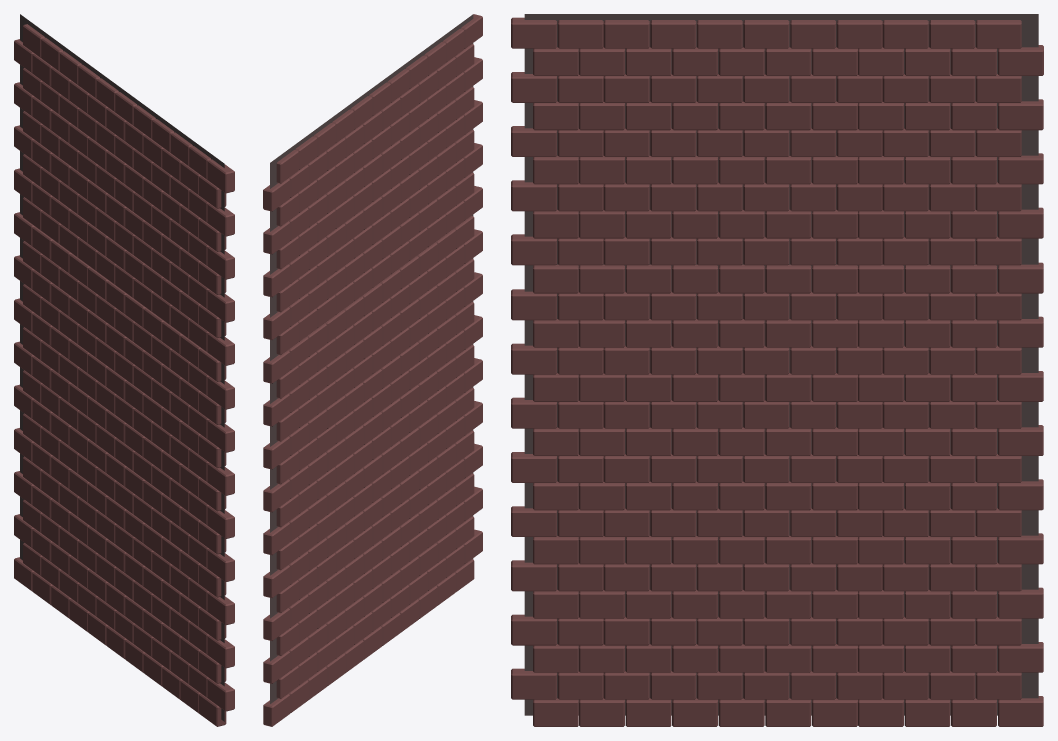
File: Pared_Ladrillos_04.fbx
3 views of the same model, side by side, from view 1: azimuth 30°, elevation 25°; view 2: azimuth 150°, elevation 25°; view 3: azimuth 270°, elevation 25° (orthographic). The views are drawn at different scales.
Visible parts, largest first — view 1: Pared, Losa_0655, Losa_0661, Losa_0564, Losa_0586, Losa_0641, Losa_0672, Losa_0694, Losa_0575, Losa_0608, Losa_0619, Losa_0630 (+275 smaller); view 2: Pared, Losa_0749, Losa_0746, Losa_0757, Losa_0747, Losa_0751, Losa_0752, Losa_0753, Losa_0754, Losa_0755, Losa_0756, Losa_0748 (+275 smaller); view 3: Pared, Losa_0655, Losa_0749, Losa_0642, Losa_0575, Losa_0586, Losa_0630, Losa_0631, Losa_0641, Losa_0683, Losa_0694, Losa_0533 (+275 smaller).
Part boxes in pixels (x1,y1,x2,y2): Pared: [20, 14, 224, 721]; Losa_0655: [207, 159, 234, 193]; Losa_0661: [207, 203, 234, 236]; Losa_0564: [207, 678, 234, 711]; Losa_0586: [207, 592, 234, 625]; Losa_0641: [207, 376, 234, 409]; Losa_0672: [207, 246, 234, 279]; Losa_0694: [207, 332, 234, 365]; Losa_0575: [207, 635, 234, 668]; Losa_0608: [207, 505, 234, 538]; Losa_0619: [207, 462, 234, 495]; Losa_0630: [207, 419, 234, 452]; Pared: [270, 14, 473, 703]; Losa_0749: [263, 350, 289, 383]; Losa_0746: [263, 221, 289, 254]; Losa_0757: [263, 693, 289, 726]; Losa_0747: [263, 264, 289, 297]; Losa_0751: [263, 436, 289, 469]; Losa_0752: [263, 479, 289, 512]; Losa_0753: [263, 522, 289, 555]; Losa_0754: [263, 565, 289, 597]; Losa_0755: [263, 608, 289, 640]; Losa_0756: [263, 651, 289, 683]; Losa_0748: [263, 307, 289, 340]; Pared: [524, 14, 1038, 715]; Losa_0655: [511, 17, 556, 48]; Losa_0749: [998, 262, 1043, 293]; Losa_0642: [765, 264, 811, 293]; Losa_0575: [511, 614, 556, 645]; Losa_0586: [511, 560, 556, 591]; Losa_0630: [511, 343, 556, 374]; Losa_0631: [718, 264, 764, 293]; Losa_0641: [511, 289, 556, 320]; Losa_0683: [511, 180, 556, 211]; Losa_0694: [511, 234, 556, 265]; Losa_0533: [904, 264, 950, 293].
Bounding box in the file's own units: 0.3387 × 18.22 × 12.39.
